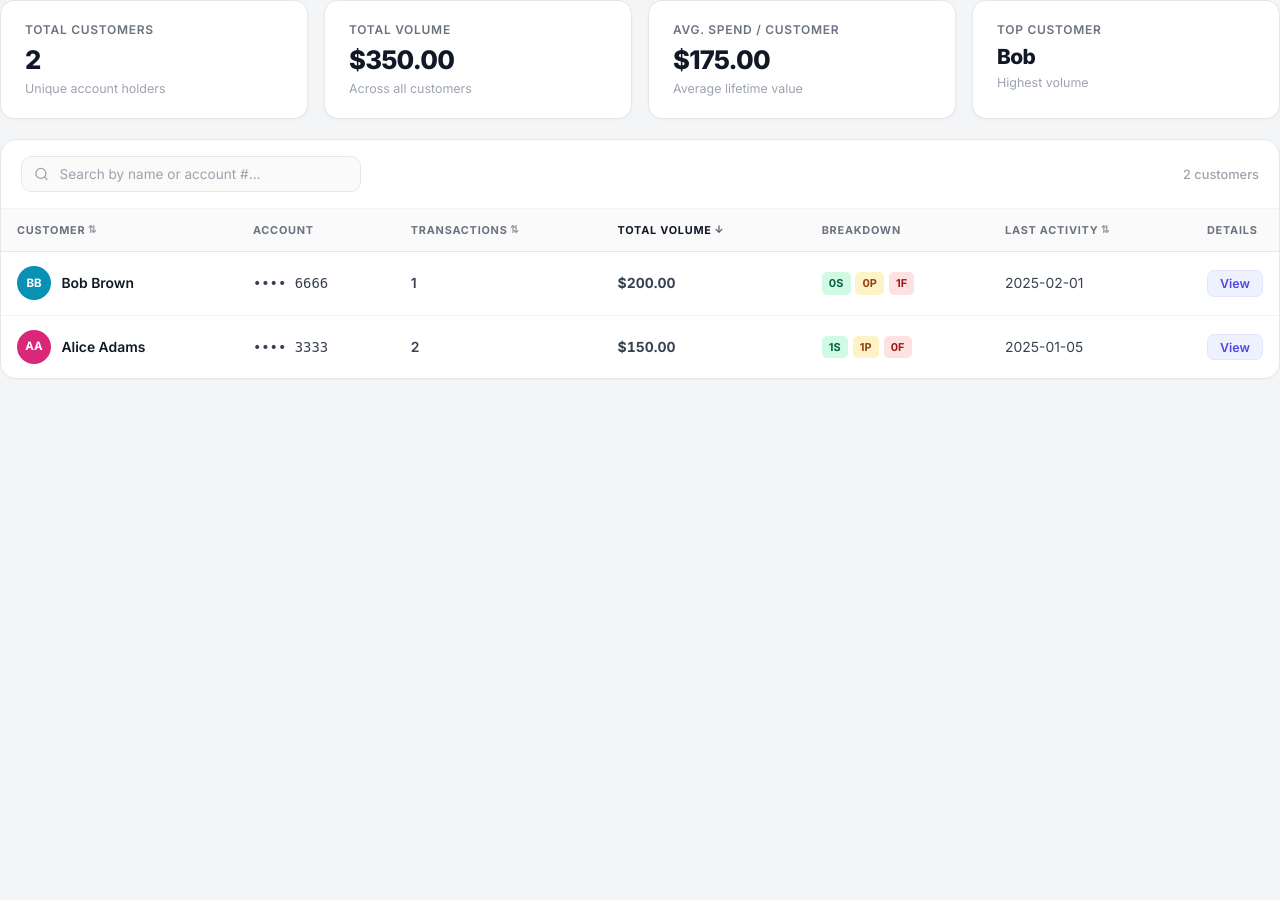
CustomersPage › opens the customer drawer with transaction history on row click
The width and height of the screenshot is (1280, 900).
Click the text "Alice Adams": (103, 347) [61,337,145,358]
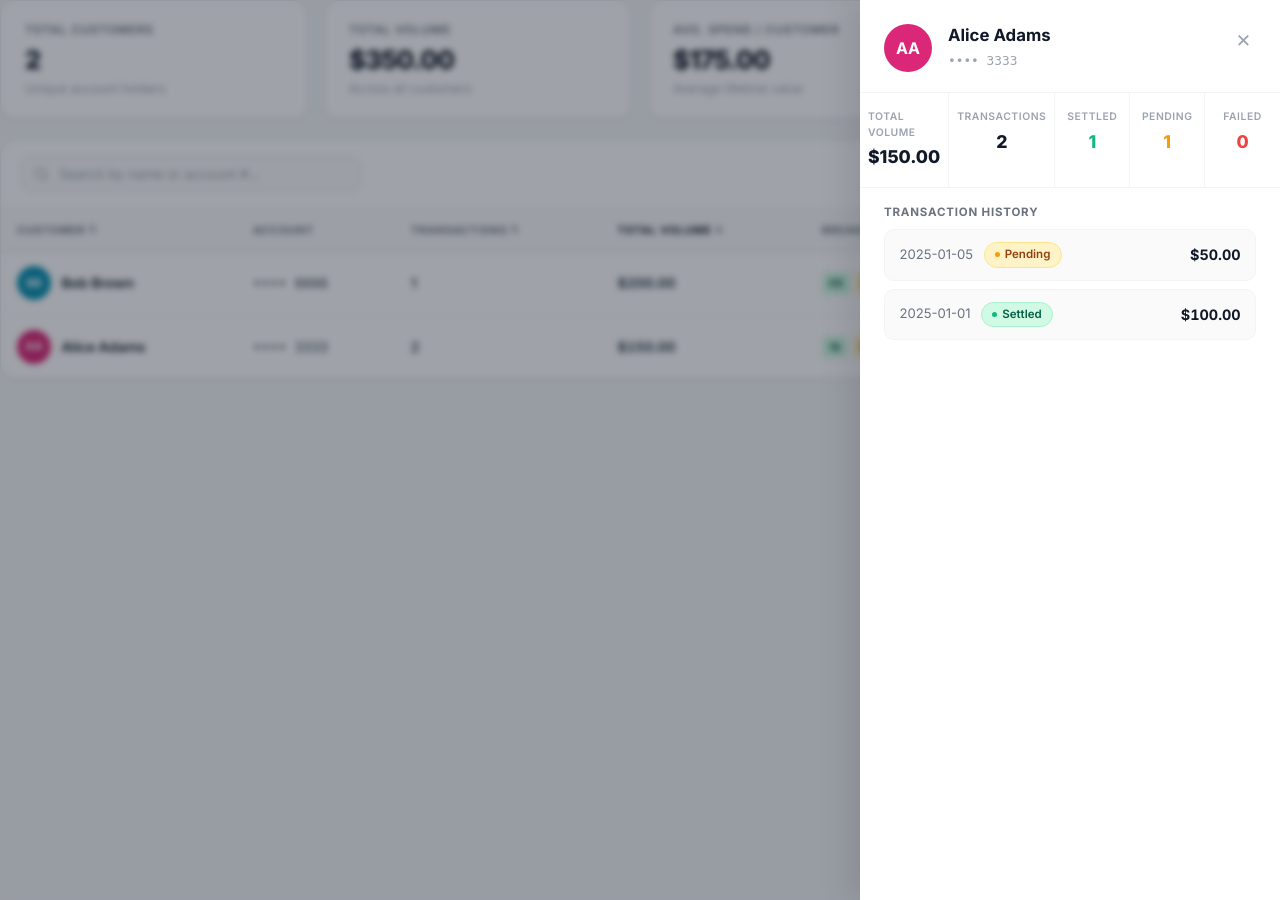
Now the text "$150.00" is shown, box [868,144,940,171]
Now the text "2025-01-01" is shown, box [899,304,971,324]
Now the text "2025-01-05" is shown, box [899,245,973,264]
